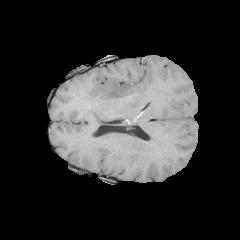glioma: (94, 76, 138, 125)
